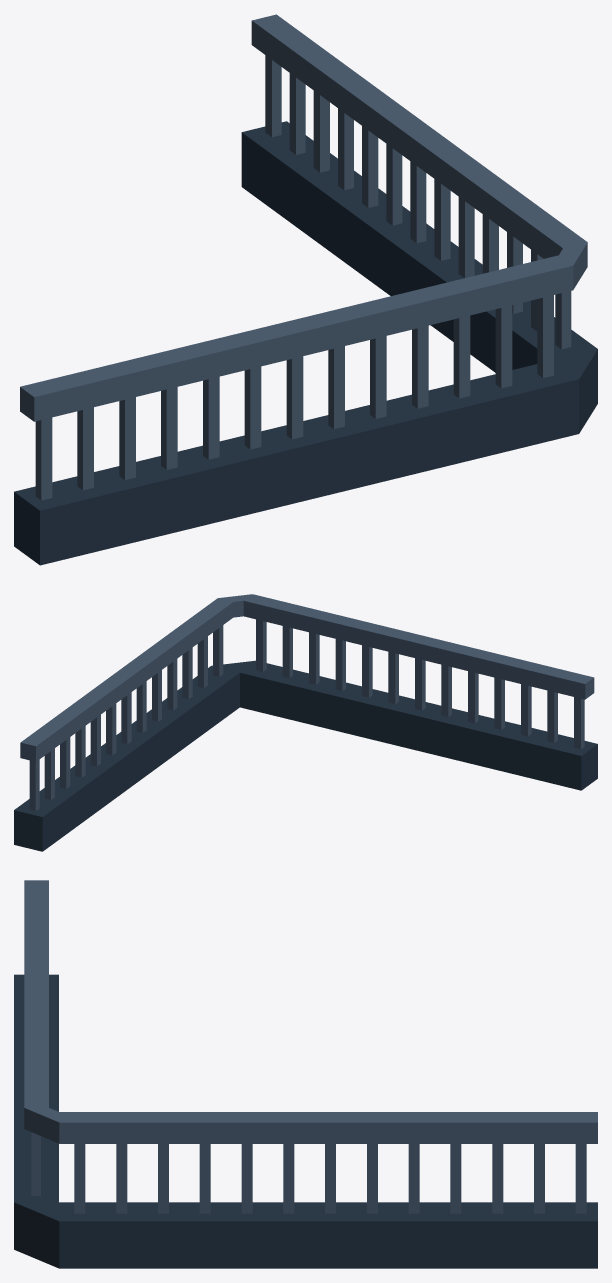
File: Fence_3-2.fbx
3 views of the same model, one above another, from view 1: azimuth 30°, elevation 25°; view 2: azimuth 150°, elevation 25°; view 3: azimuth 270°, elevation 25° (orthographic). The views are drawn at different scales.
Parts seen in each view (by area): view 1: Fence_3-2; view 2: Fence_3-2; view 3: Fence_3-2.
Boxes of the visible parts, <box> form: Fence_3-2: <box>14,14,597,565</box>; Fence_3-2: <box>14,594,597,851</box>; Fence_3-2: <box>14,880,597,1268</box>.
Size of the model in its own units: 33.46 by 8.98 by 33.49.
